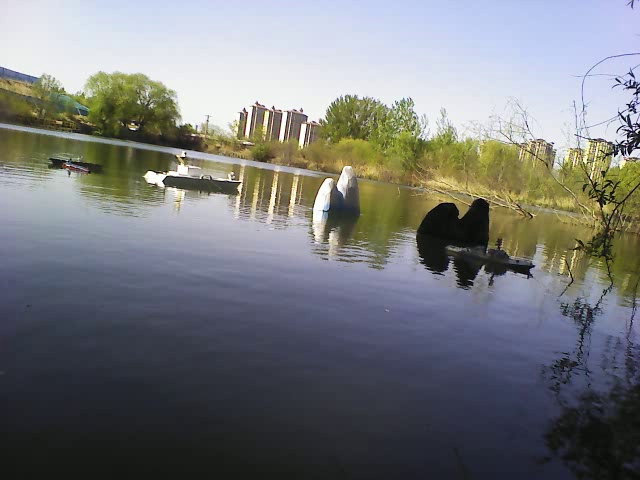aircraft_carrier: (47, 149, 105, 170)
boat: (142, 150, 242, 194)
iceberg: (310, 159, 367, 219)
rock: (415, 196, 493, 243)
submarine: (65, 158, 94, 177)
warship: (444, 241, 537, 276)
